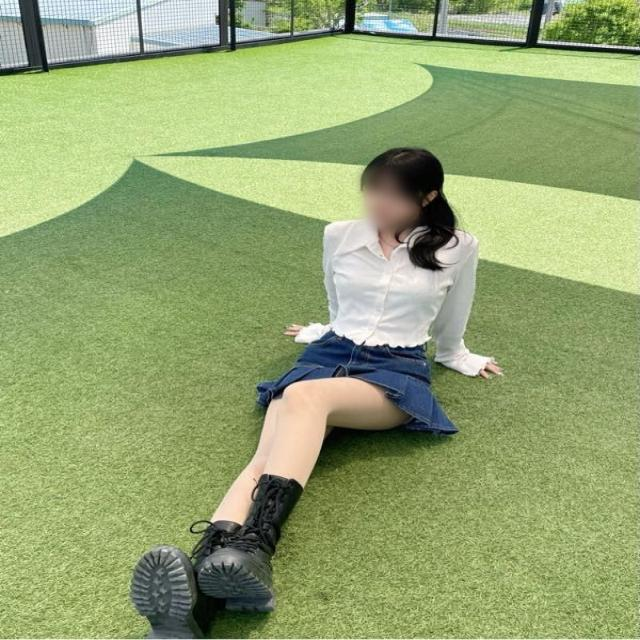shirt: (294, 218, 490, 378)
skirt: (250, 322, 454, 434)
